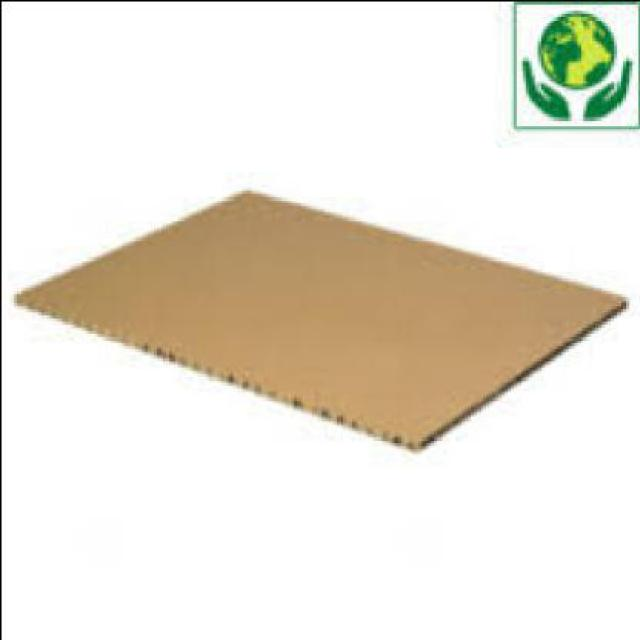CARDBOARD: (15, 185, 628, 448)
